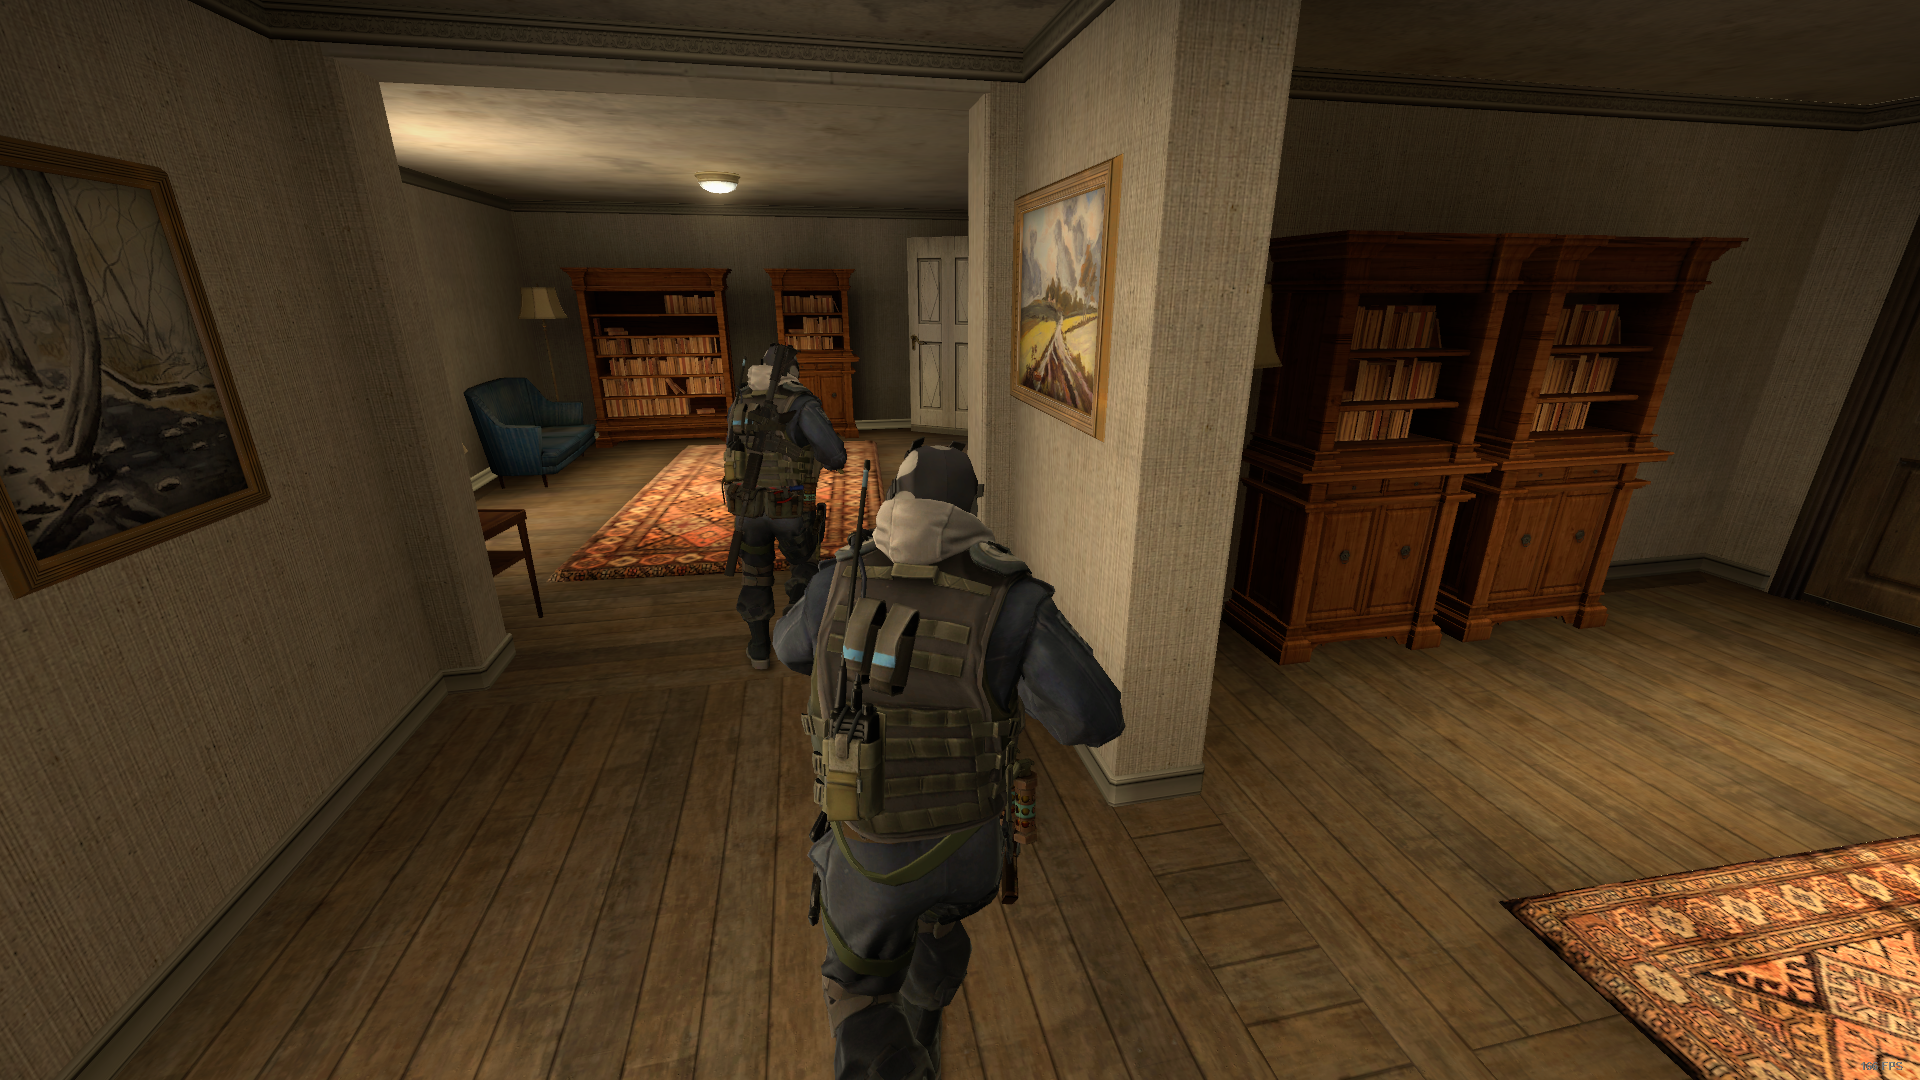ct: (767, 440, 1122, 1080), (725, 347, 843, 550)
